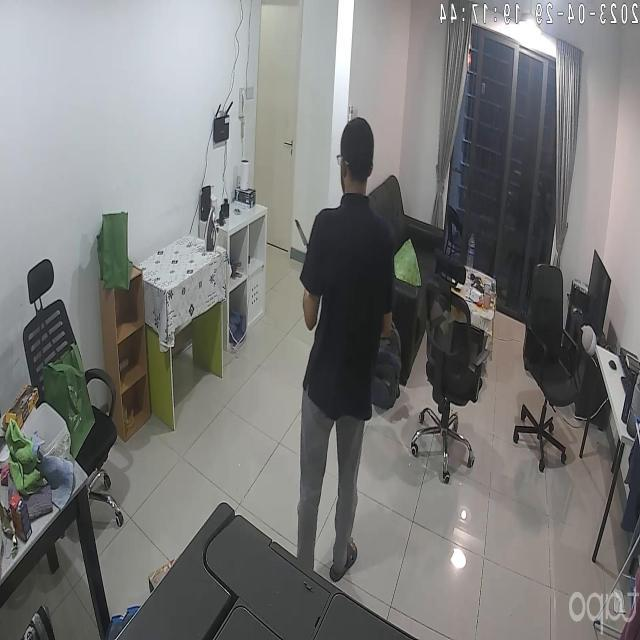Knife: (293, 217, 317, 255)
